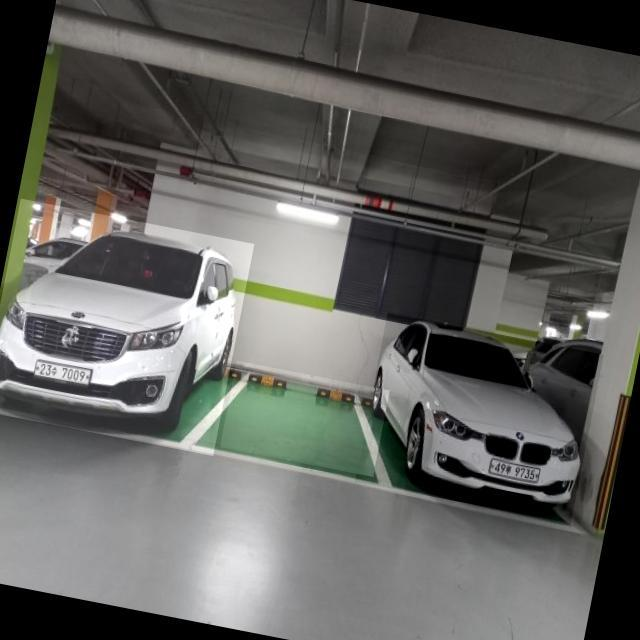empty: (220, 361, 390, 477)
occupied: (0, 199, 254, 456), (355, 313, 604, 524)
